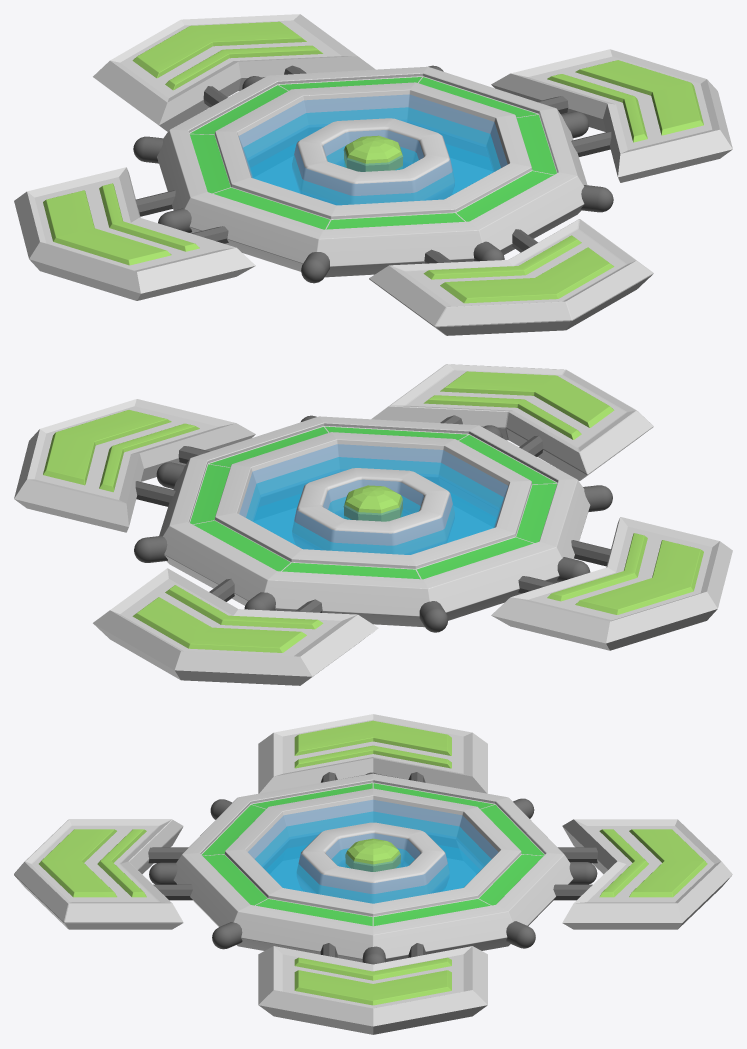
The model's file is tere.fbx.
The picture shows the model from 3 angles, top to bottom: view 1: azimuth 30°, elevation 25°; view 2: azimuth 150°, elevation 25°; view 3: azimuth 270°, elevation 25°; orthographic projection. The views are drawn at different scales.
Visible parts, largest first — view 1: pTorus1, pCube1 (×2), pCube4 (×2), pCylinder19, pTorus2, pCylinder1, group4_pCube2, group4_pCube5, group3_pCube5, group3_pCube2, pSphere1, pCylinder12 (+5 smaller); view 2: pTorus1, pCube4 (×2), pCube1 (×2), pCylinder19, pTorus2, pCylinder1, group4_pCube5, group4_pCube2, group3_pCube5, group3_pCube2, pSphere1, pCylinder14 (+6 smaller); view 3: pTorus1, pCube1 (×2), pCube4 (×2), pCylinder19, pTorus2, pCylinder1, group3_pCube2, group3_pCube5, group4_pCube5, group4_pCube2, pSphere1, pCylinder12 (+7 smaller).
Part boxes in pixels (x1=…): pTorus1: x1=157, y1=66, x2=587, y2=277; pCube1 (×2): x1=369, y1=49, x2=732, y2=335; pCube4 (×2): x1=14, y1=14, x2=375, y2=300; pCylinder19: x1=239, y1=94, x2=507, y2=205; pTorus2: x1=292, y1=118, x2=454, y2=204; pCylinder1: x1=243, y1=107, x2=500, y2=204; group4_pCube2: x1=423, y1=235, x2=614, y2=303; group4_pCube5: x1=132, y1=21, x2=323, y2=90; group3_pCube5: x1=43, y1=183, x2=199, y2=265; group3_pCube2: x1=547, y1=60, x2=703, y2=142; pSphere1: x1=343, y1=135, x2=402, y2=171; pCylinder12: x1=580, y1=185, x2=613, y2=212; pTorus1: x1=159, y1=416, x2=590, y2=627; pCube4 (×2): x1=93, y1=517, x2=732, y2=685; pCube1 (×2): x1=14, y1=364, x2=653, y2=532; pCylinder19: x1=239, y1=444, x2=507, y2=554; pTorus2: x1=292, y1=468, x2=454, y2=554; pCylinder1: x1=246, y1=457, x2=503, y2=554; group4_pCube5: x1=132, y1=585, x2=323, y2=652; group4_pCube2: x1=423, y1=371, x2=614, y2=439; group3_pCube5: x1=547, y1=533, x2=703, y2=614; group3_pCube2: x1=43, y1=410, x2=199, y2=492; pSphere1: x1=343, y1=485, x2=402, y2=521; pCylinder14: x1=134, y1=535, x2=167, y2=562; pTorus1: x1=173, y1=773, x2=573, y2=962; pCube1 (×2): x1=14, y1=819, x2=487, y2=1034; pCube4 (×2): x1=258, y1=714, x2=732, y2=929; pCylinder19: x1=248, y1=800, x2=497, y2=903; pTorus2: x1=297, y1=822, x2=449, y2=903; pCylinder1: x1=255, y1=811, x2=491, y2=903; group3_pCube2: x1=294, y1=957, x2=451, y2=1005; group3_pCube5: x1=294, y1=720, x2=451, y2=768; group4_pCube5: x1=599, y1=829, x2=707, y2=897; group4_pCube2: x1=39, y1=829, x2=146, y2=897; pSphere1: x1=345, y1=838, x2=400, y2=871; pCylinder12: x1=212, y1=922, x2=242, y2=949.
Bounding box in the file's own units: 98.22 × 11.89 × 98.13.
